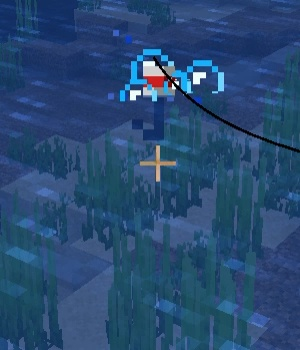up: (132, 60, 178, 141)
